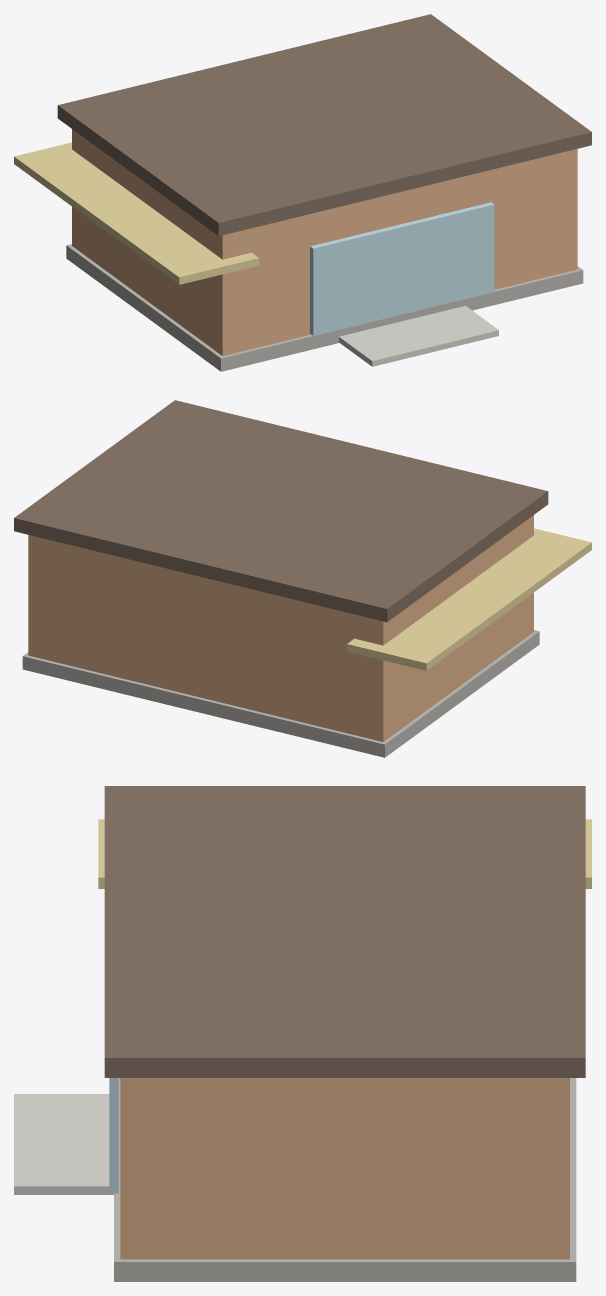
File: cafe.glb
3 renders of one model, top to bottom at view 1: azimuth 30°, elevation 25°; view 2: azimuth 150°, elevation 25°; view 3: azimuth 270°, elevation 25°, orthographic. The views are drawn at different scales.
Parts seen in each view (by area): view 1: p001, p000, p003, p004, p002, p005; view 2: p001, p000, p004, p002; view 3: p001, p000, p002, p005, p003, p004.
Boxes of the visible parts, bbox=[...] form: p001: bbox=[57, 14, 591, 236]; p000: bbox=[72, 129, 577, 355]; p003: bbox=[310, 202, 494, 335]; p004: bbox=[14, 142, 258, 284]; p002: bbox=[66, 244, 583, 371]; p005: bbox=[339, 306, 498, 366]; p001: bbox=[14, 400, 548, 622]; p000: bbox=[28, 515, 533, 741]; p004: bbox=[347, 528, 591, 670]; p002: bbox=[22, 630, 539, 757]; p001: bbox=[104, 786, 585, 1077]; p000: bbox=[120, 1078, 569, 1259]; p002: bbox=[114, 1078, 576, 1281]; p005: bbox=[14, 1094, 113, 1194]; p003: bbox=[109, 1078, 118, 1193]; p004: bbox=[98, 819, 591, 888].
Bounding box in the file's own units: 11.45 × 4.02 × 9.25.
